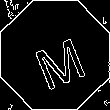M_N: (24, 23, 86, 87)
